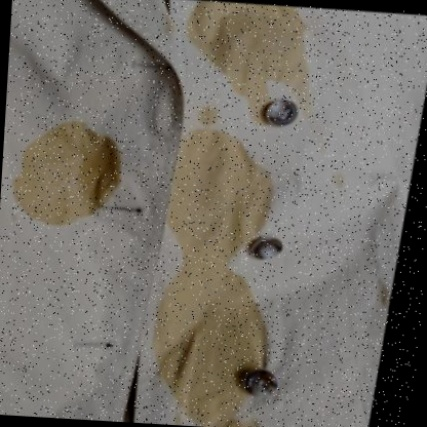coffee: (165, 136, 251, 258), (191, 2, 312, 83), (15, 130, 116, 222), (165, 272, 263, 366)
